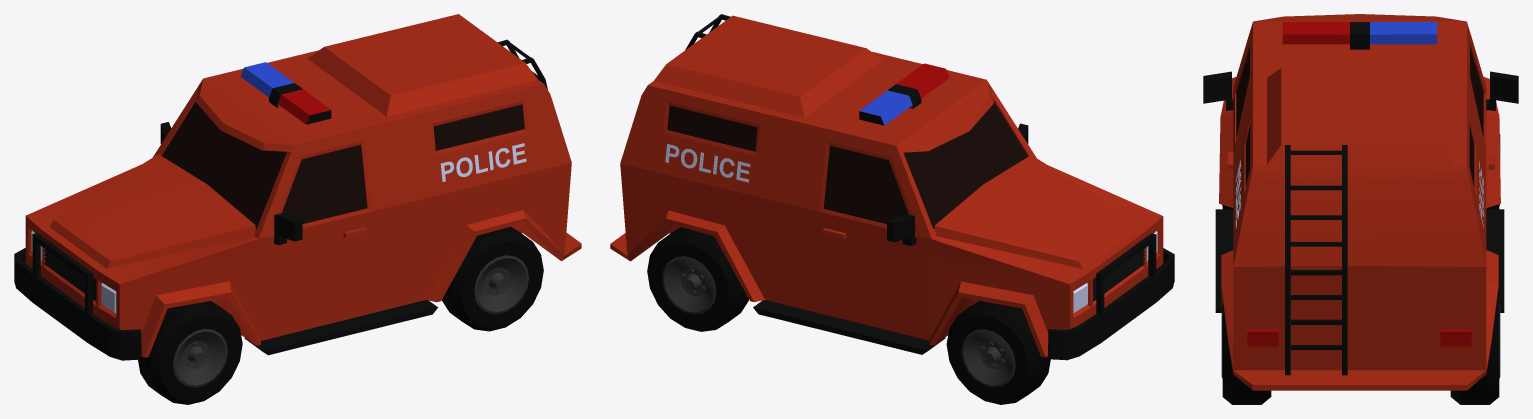
Rendered from SUV.fbx.
The picture shows the model from 3 angles, left to right: view 1: azimuth 30°, elevation 25°; view 2: azimuth 150°, elevation 25°; view 3: azimuth 270°, elevation 25°; orthographic projection. The views are drawn at different scales.
Parts seen in each view (by area): view 1: SUV; view 2: SUV; view 3: SUV.
Boxes of the visible parts, x1,y1,x2,y2 form: SUV: (14,14,581,404); SUV: (610,14,1174,404); SUV: (1203,14,1518,404).
Bounding box in the file's own units: 456 × 219 × 222.
